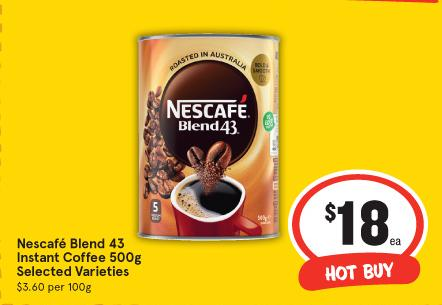description_block: (10, 227, 147, 281)
price_main: (299, 175, 421, 253)
product_image_block: (122, 29, 283, 245)
promo_text_block: (289, 257, 427, 287)
unit_price_block: (10, 278, 108, 302)
